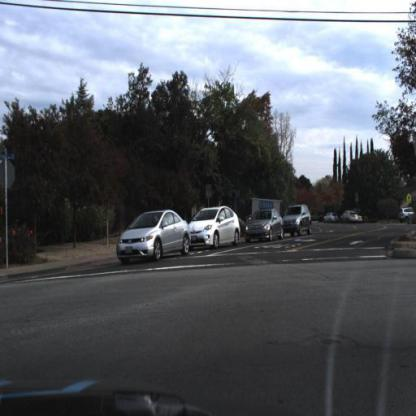car: (114, 210, 191, 266), (189, 203, 244, 253), (245, 207, 287, 247), (281, 201, 315, 239), (341, 209, 362, 226), (322, 209, 339, 225)
